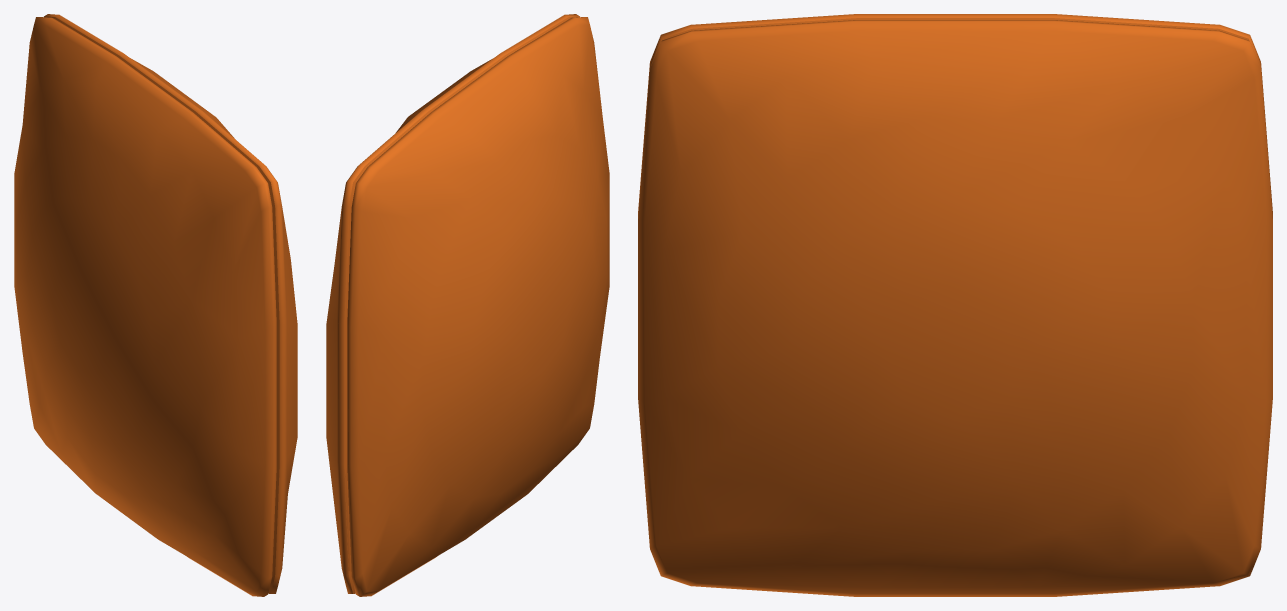
Rendered from Cushion.fbx.
3 renders of one model, left to right at view 1: azimuth 30°, elevation 25°; view 2: azimuth 150°, elevation 25°; view 3: azimuth 270°, elevation 25°, orthographic. The views are drawn at different scales.
Visible parts, largest first — view 1: Cushion_01; view 2: Cushion_01; view 3: Cushion_01.
Boxes of the visible parts, x1,y1,x2,y2 form: Cushion_01: [14, 14, 297, 596]; Cushion_01: [326, 14, 609, 596]; Cushion_01: [638, 14, 1272, 596].
Bounding box in the file's own units: 14.6 × 41.41 × 41.41.
